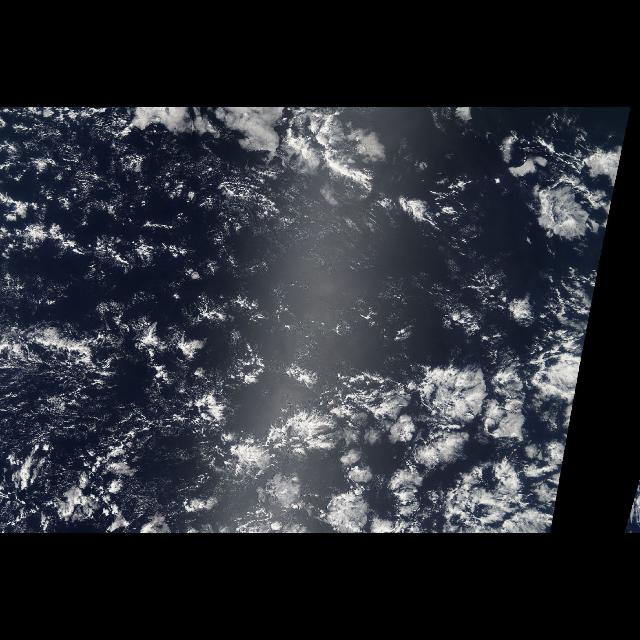Flower: (157, 330, 588, 532)
Gravel: (6, 331, 158, 533)
